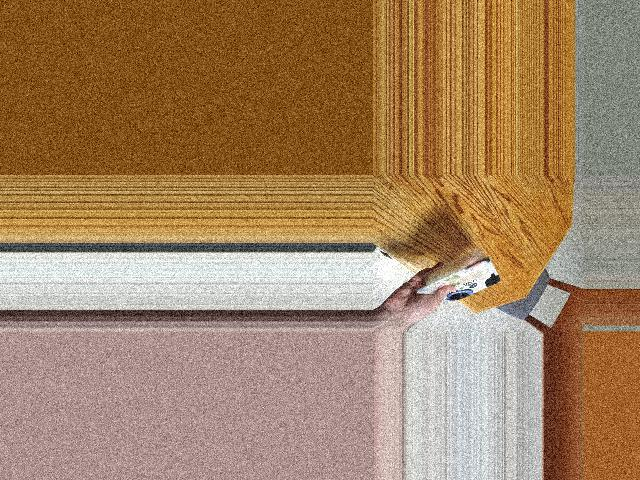cheese: (429, 250, 496, 313)
